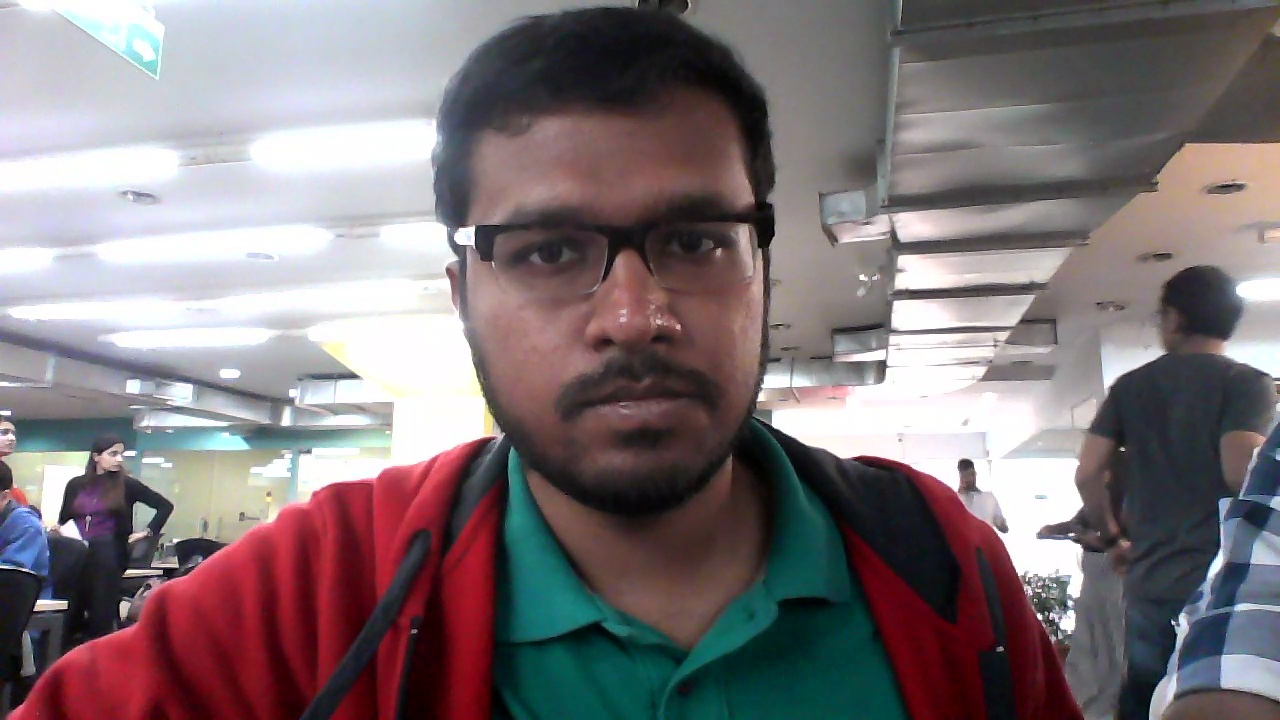open: (446, 14, 786, 512)
